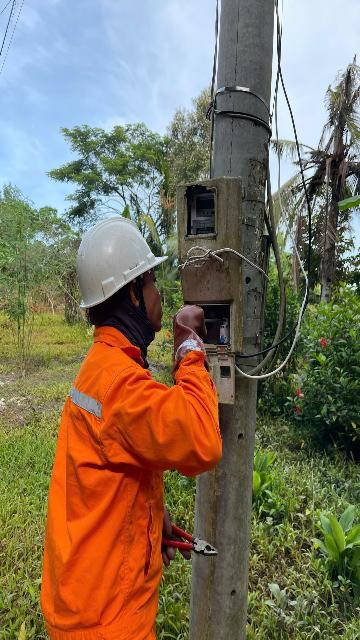gloves: (147, 504, 221, 574), (166, 299, 229, 378)
helmet: (60, 208, 172, 325)
